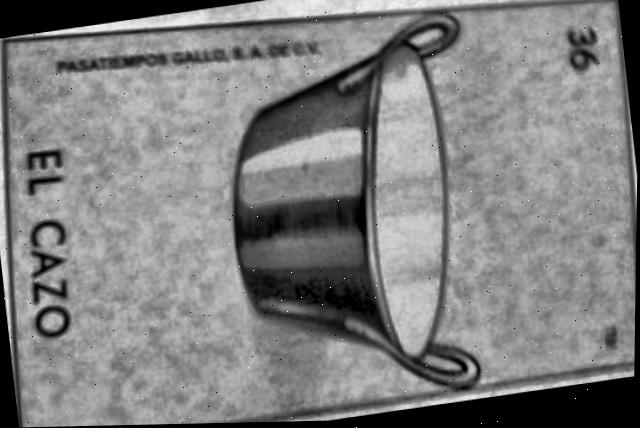El Cazo: (5, 0, 637, 428)
